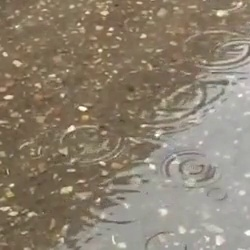drop: (108, 67, 206, 124), (59, 124, 123, 167), (184, 29, 249, 68), (161, 149, 220, 189), (143, 231, 187, 250), (201, 1, 242, 13), (19, 142, 44, 159), (206, 187, 228, 202), (42, 77, 64, 90)
